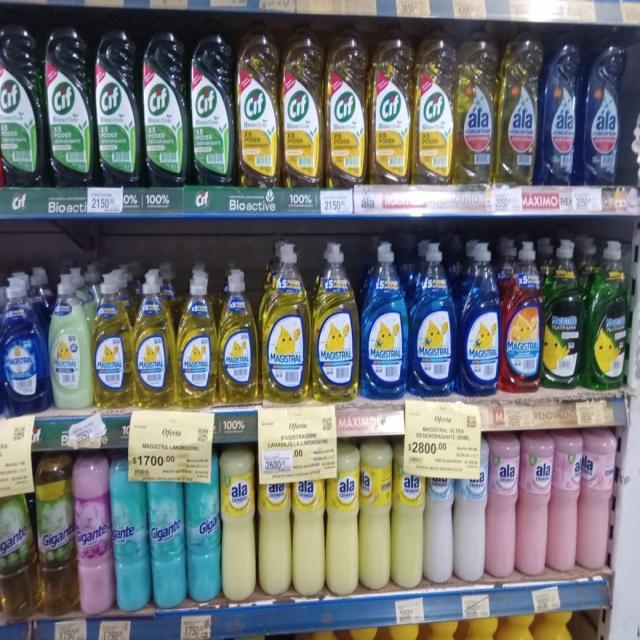ala_conc_amarillo: (455, 27, 495, 186), (498, 29, 538, 187)
ala_conc_azul: (583, 30, 623, 187), (541, 31, 580, 187), (625, 28, 640, 189)
ala_crem_amarillo: (221, 446, 256, 600), (326, 441, 358, 597), (292, 448, 325, 598), (258, 448, 291, 596), (360, 438, 391, 592), (393, 437, 424, 589)
ala_crem_blanco: (455, 434, 487, 584), (425, 439, 454, 586)
ala_crem_rosado: (580, 428, 615, 572), (519, 430, 551, 580), (488, 432, 517, 582)
cif_conc_bot_amarilla: (237, 21, 279, 188), (281, 22, 323, 189), (369, 25, 412, 186), (325, 25, 367, 188), (413, 26, 453, 187)
cif_conc_botella_verde: (45, 18, 93, 188), (142, 21, 188, 188), (95, 21, 140, 188), (1, 15, 44, 188), (191, 22, 234, 186)
gigante: (35, 453, 76, 615), (112, 452, 150, 612), (76, 452, 112, 615), (149, 455, 186, 608), (0, 462, 35, 620), (187, 447, 220, 602)
magistral_con_amarillo: (261, 242, 310, 403), (312, 241, 359, 403), (134, 269, 174, 409), (176, 268, 216, 408), (92, 272, 132, 408), (219, 268, 258, 404)
magistral_con_azul: (360, 240, 408, 400), (410, 240, 456, 398), (0, 271, 47, 415), (459, 240, 500, 397)
magistral_con_crema: (50, 271, 90, 410)
magistral_con_rojo: (502, 239, 541, 394)
